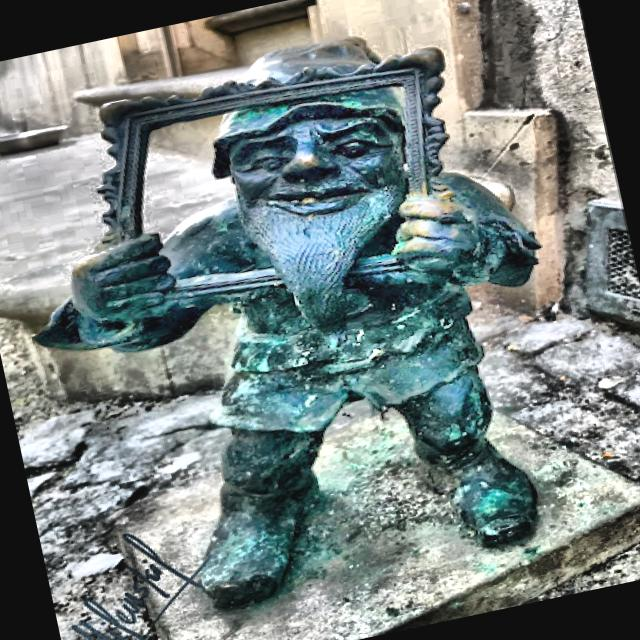Galeriusz: (35, 37, 538, 610)
